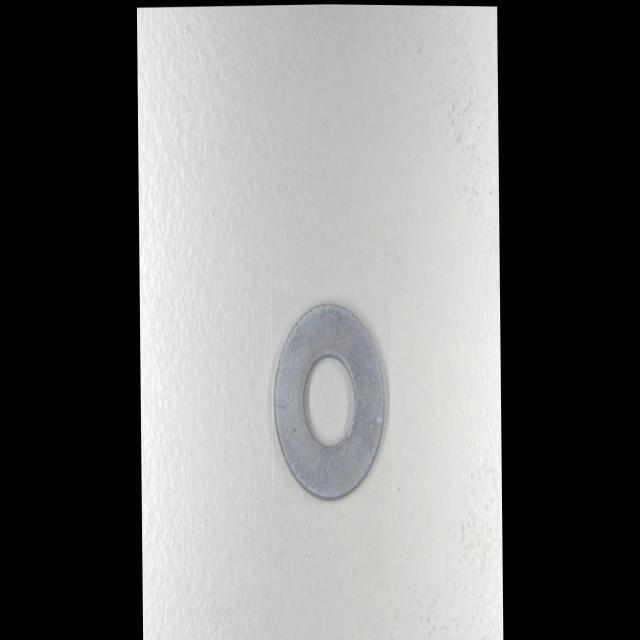washer: (272, 294, 390, 502)
